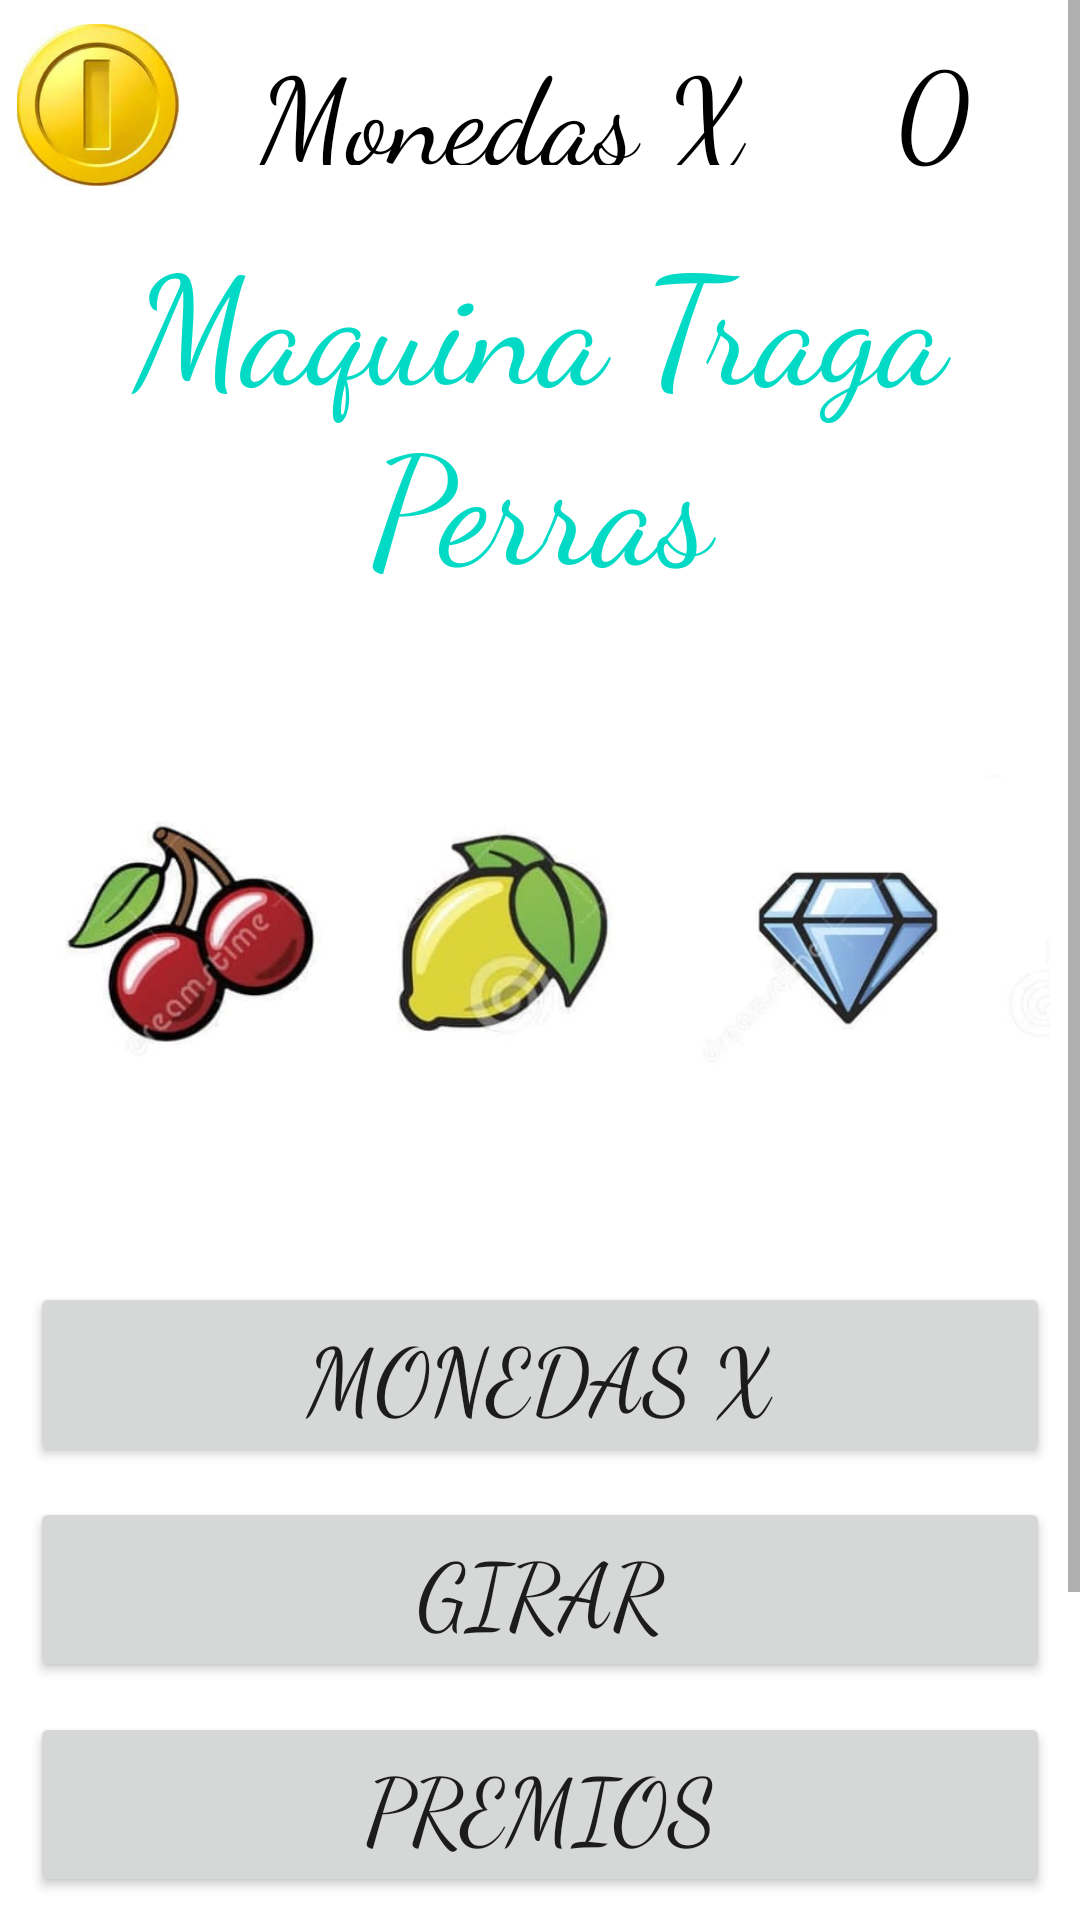

Locate icon controls on the screen. Image size 1080x1920, boxes as (x1, y1, x2, y2).
cherry: (67, 826, 314, 1042)
diamond: (758, 872, 938, 1025)
lemon: (398, 834, 608, 1031)
